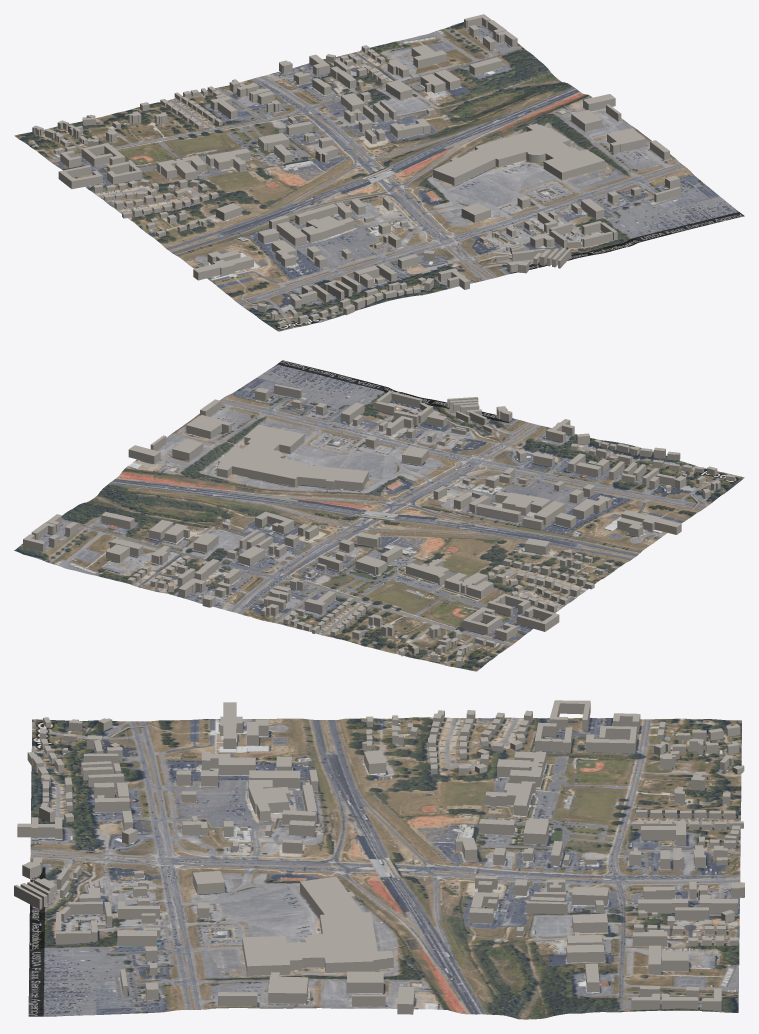
The model's file is BridgeTerrainBuildings.gltf.
3 renders of one model, top to bottom at view 1: azimuth 30°, elevation 25°; view 2: azimuth 150°, elevation 25°; view 3: azimuth 270°, elevation 25°, orthographic. The views are drawn at different scales.
Bounding box in the file's own units: 1332 × 51.53 × 1307.
Materials: 2 (1 with a texture image).
